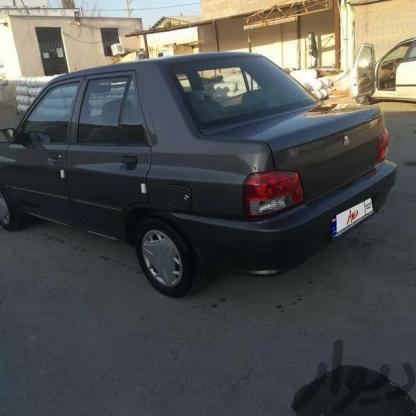Car: (0, 46, 375, 309), (341, 39, 416, 100)
